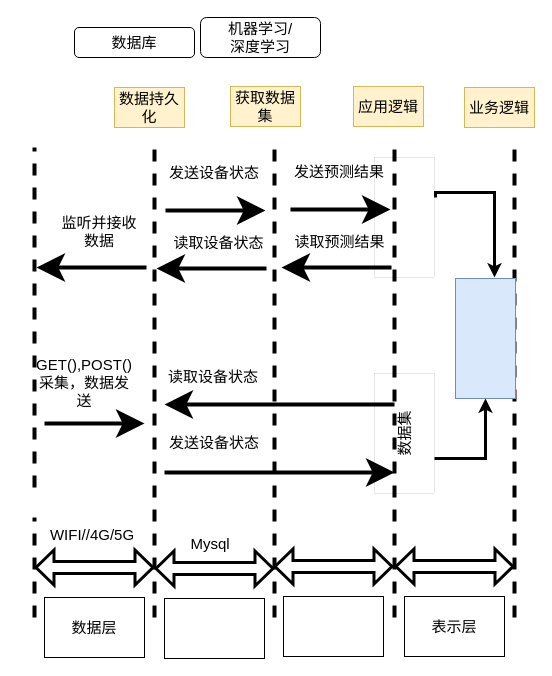
This 552x676 diagram has some shape labels left out. The centre of each missing label's shape, as x and y in pixels:
功能逻辑层: point 333,626
数据处理层: point 214,628
用户界面: point 485,338
获得预测结果: point 404,217
